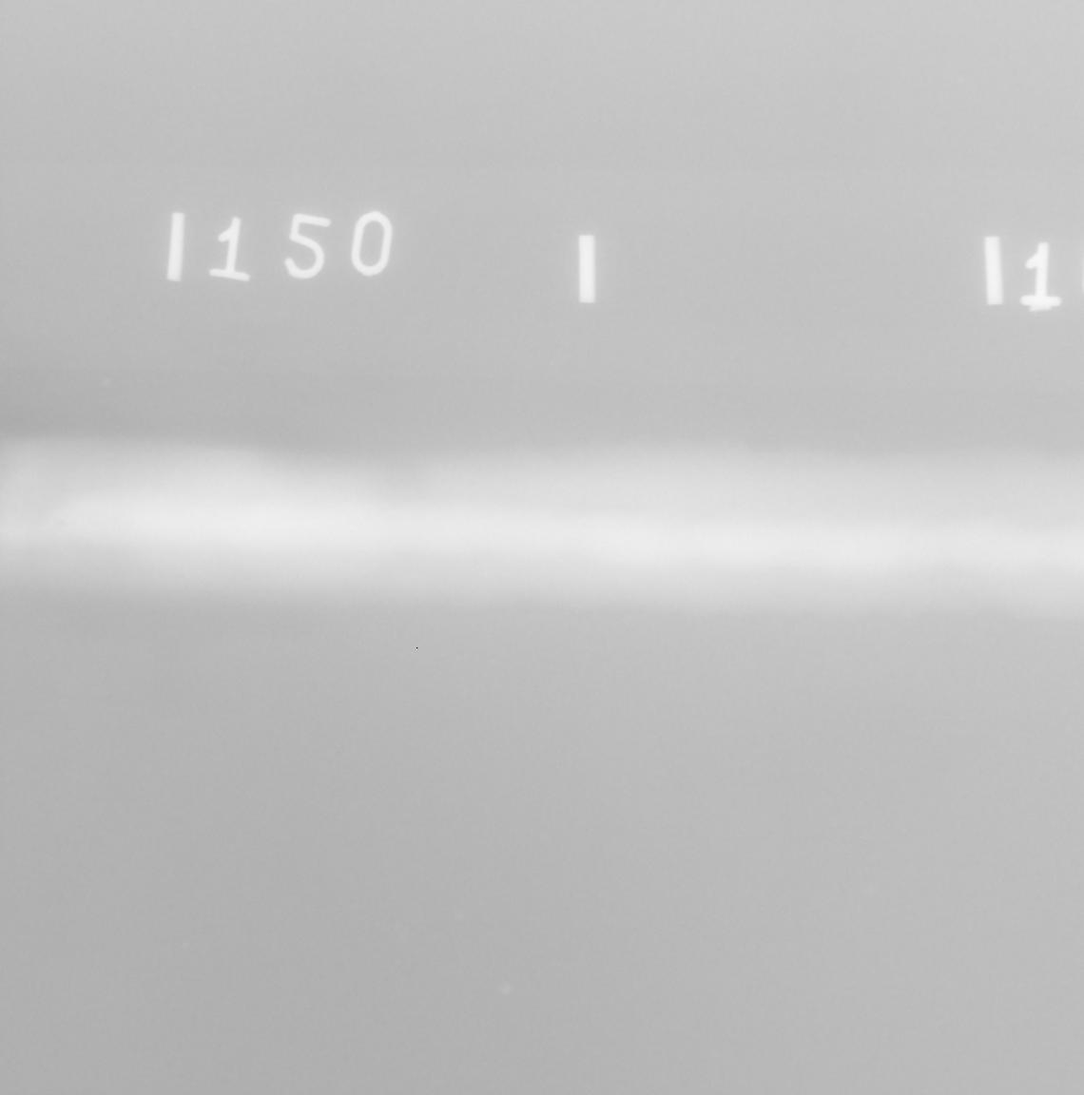Inclusion: (54, 521, 67, 526)
